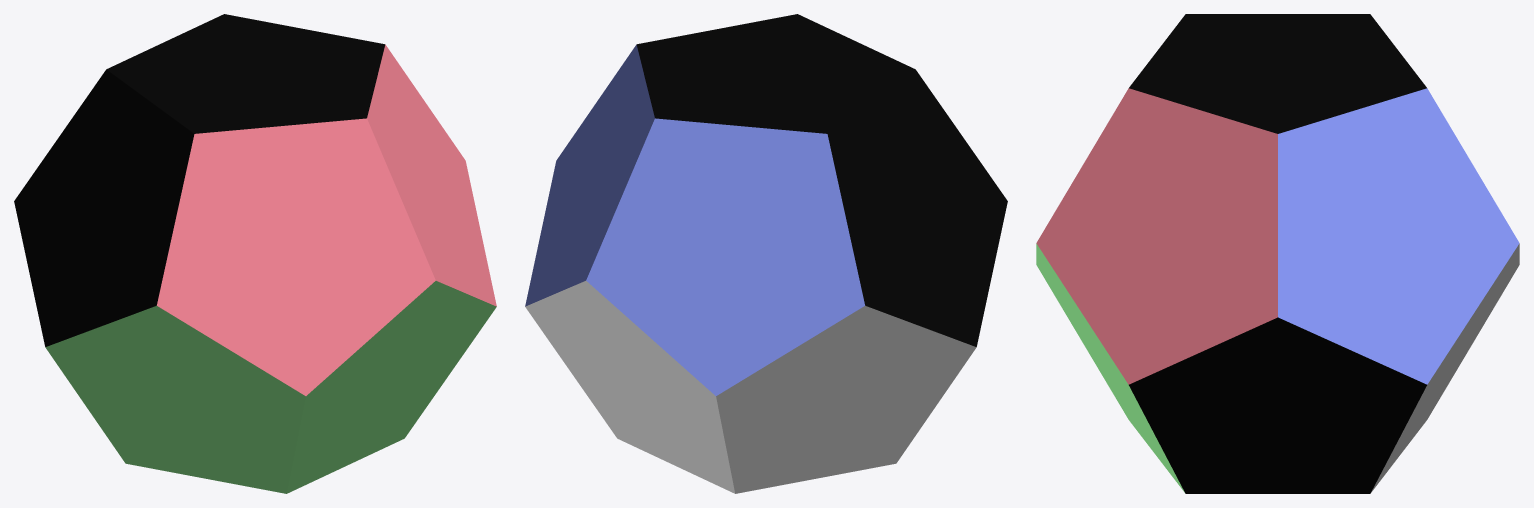
File: dodecahedron.obj
3 views of the same model, side by side, from view 1: azimuth 30°, elevation 25°; view 2: azimuth 150°, elevation 25°; view 3: azimuth 270°, elevation 25° (orthographic). The views are drawn at different scales.
Size of the model in its own units: 2 by 1.62 by 1.9.
Materials: 1 (1 with a texture image).
